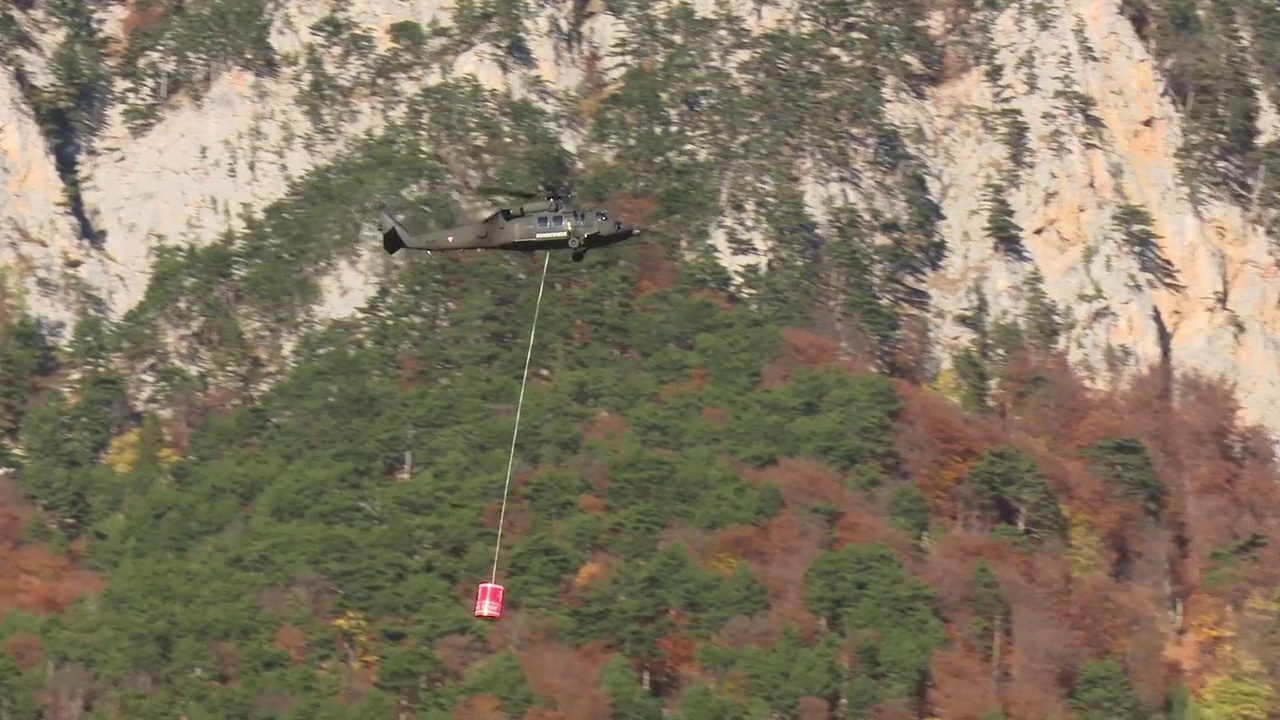heli: (378, 181, 642, 263)
